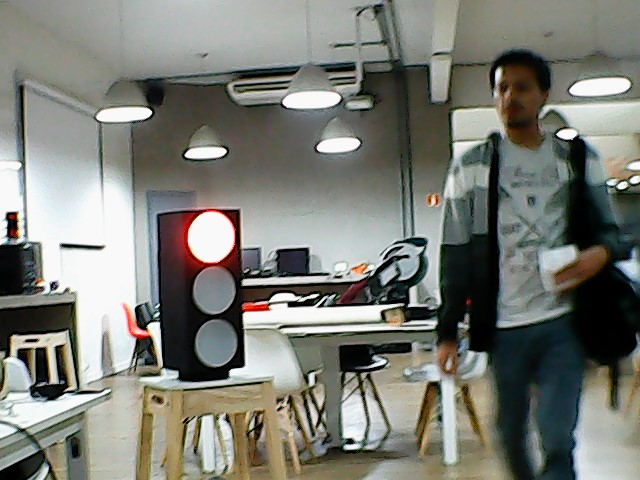vermelho: (155, 207, 250, 374)
